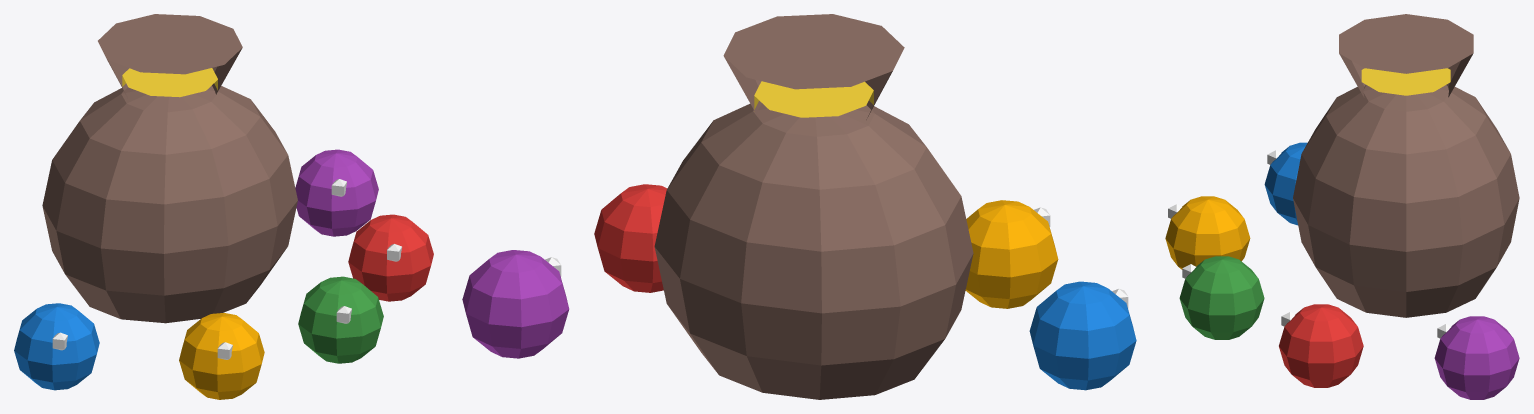
The model's file is kulor.glb.
The picture shows the model from 3 angles, left to right: view 1: azimuth 30°, elevation 25°; view 2: azimuth 150°, elevation 25°; view 3: azimuth 270°, elevation 25°; orthographic projection. The views are drawn at different scales.
Visible parts, largest first — view 1: kulor; view 2: kulor; view 3: kulor.
Part boxes in pixels (box(x1,y1,x2,y2)): kulor: box(14, 14, 433, 399); kulor: box(462, 14, 1136, 399); kulor: box(1165, 14, 1519, 399).
Size of the model in its own units: 0.3471 by 0.2 by 0.25.
